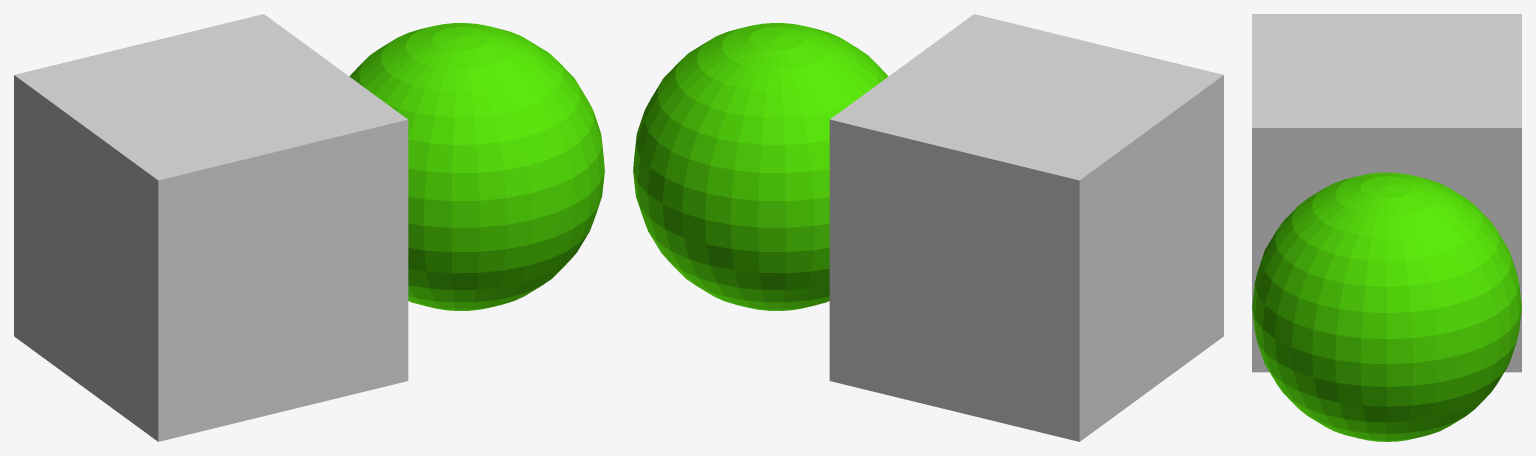
3 renders of one model, left to right at view 1: azimuth 30°, elevation 25°; view 2: azimuth 150°, elevation 25°; view 3: azimuth 270°, elevation 25°, orthographic. The views are drawn at different scales.
Parts seen in each view (by area): view 1: Cube, 球体; view 2: Cube, 球体; view 3: 球体, Cube.
Part boxes in pixels (x1,y1,x2,y2): Cube: (14, 14, 408, 441); 球体: (349, 23, 604, 310); Cube: (829, 14, 1223, 441); 球体: (633, 23, 888, 310); 球体: (1252, 172, 1521, 441); Cube: (1252, 14, 1521, 372).
Bounding box in the file's own units: 400 × 200 × 200.
